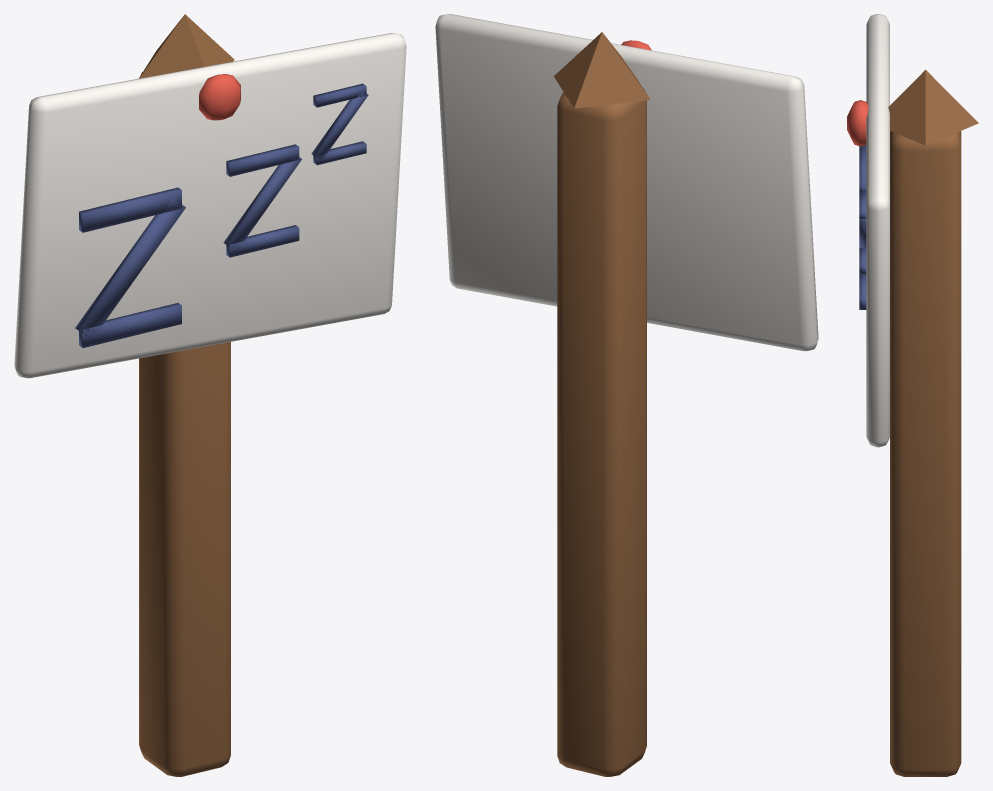
The model's file is sleep-note.glb.
The picture shows the model from 3 angles, left to right: view 1: azimuth 30°, elevation 25°; view 2: azimuth 150°, elevation 25°; view 3: azimuth 270°, elevation 25°; orthographic projection. The views are drawn at different scales.
Visible parts, largest first — view 1: note; view 2: note; view 3: note.
Part boxes in pixels (x1,y1,x2,y2): note: (14, 14, 406, 776); note: (435, 14, 818, 776); note: (847, 14, 978, 776).
Size of the model in its own units: 0.3527 by 0.65 by 0.1114.
